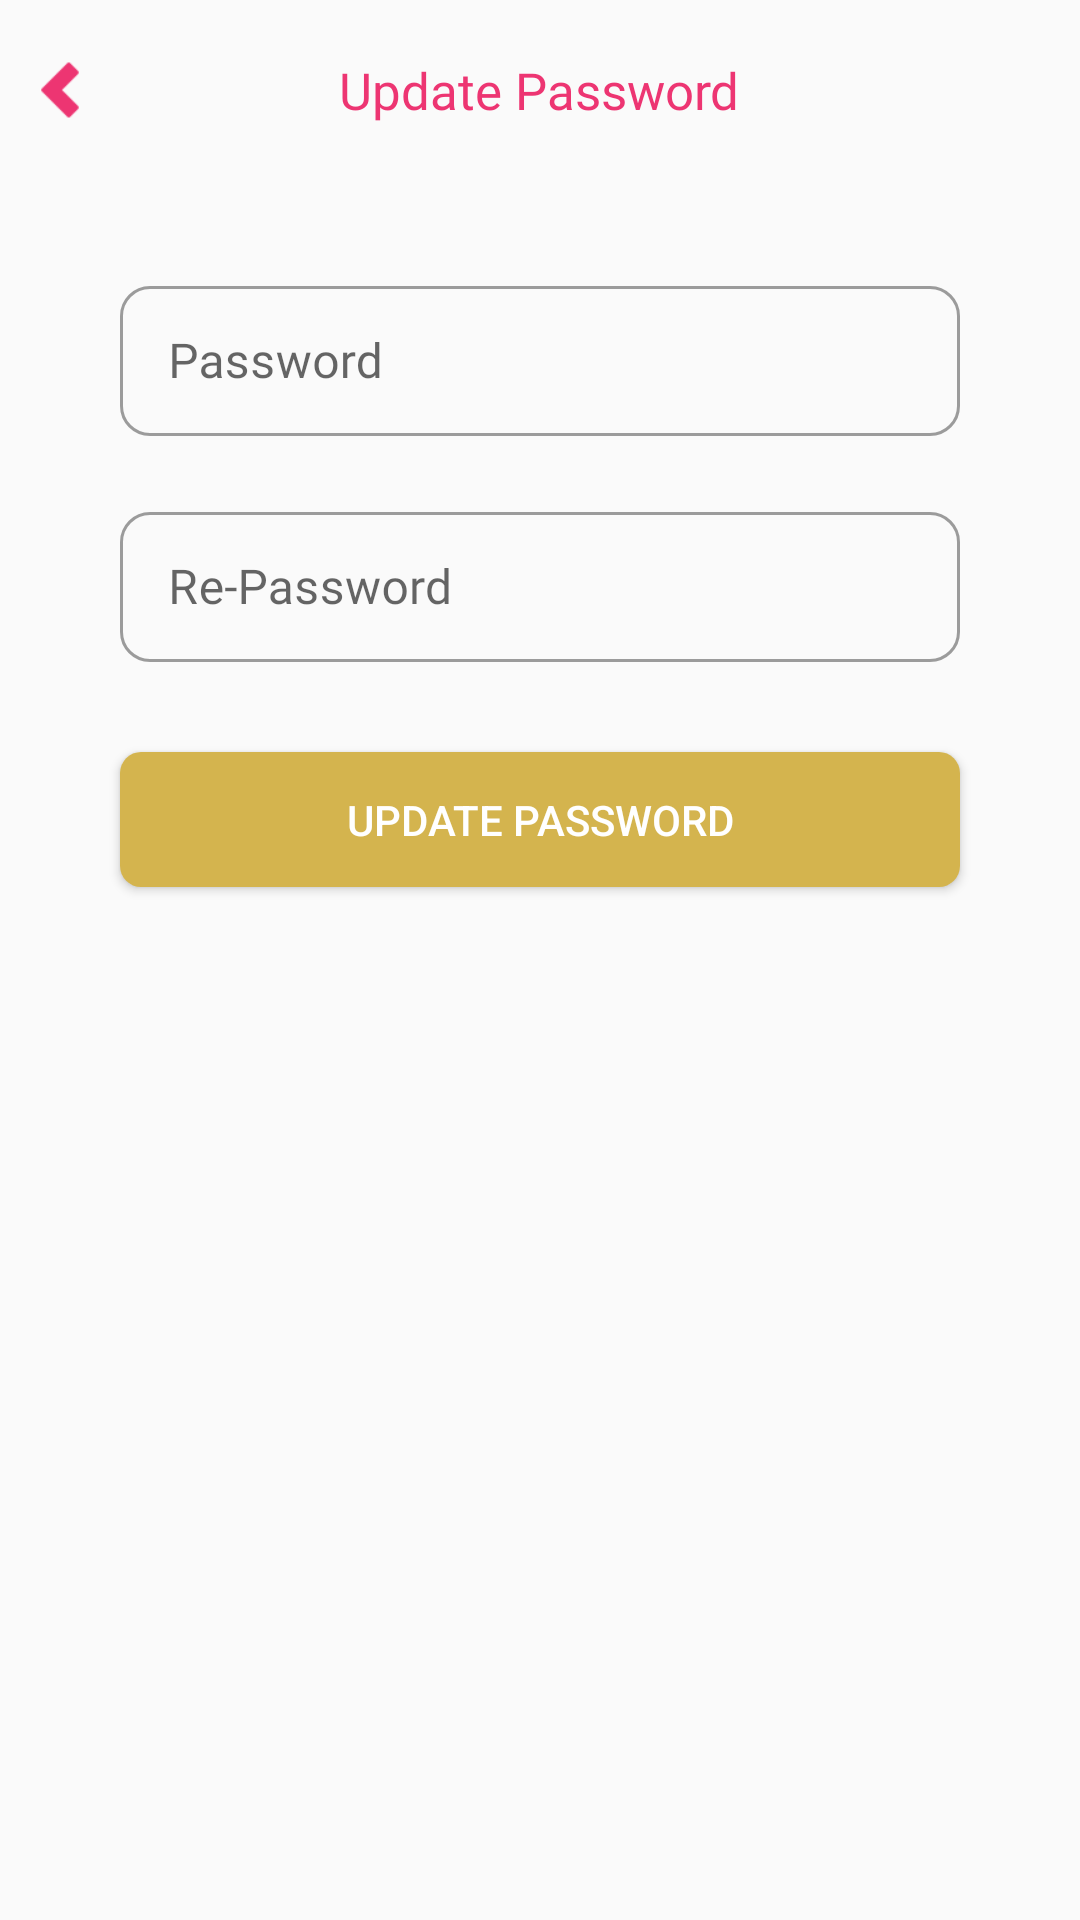

Screen size 1080*1920. Icon name, then its center in pixels as [x,y]:
arrow left: [60,90]
